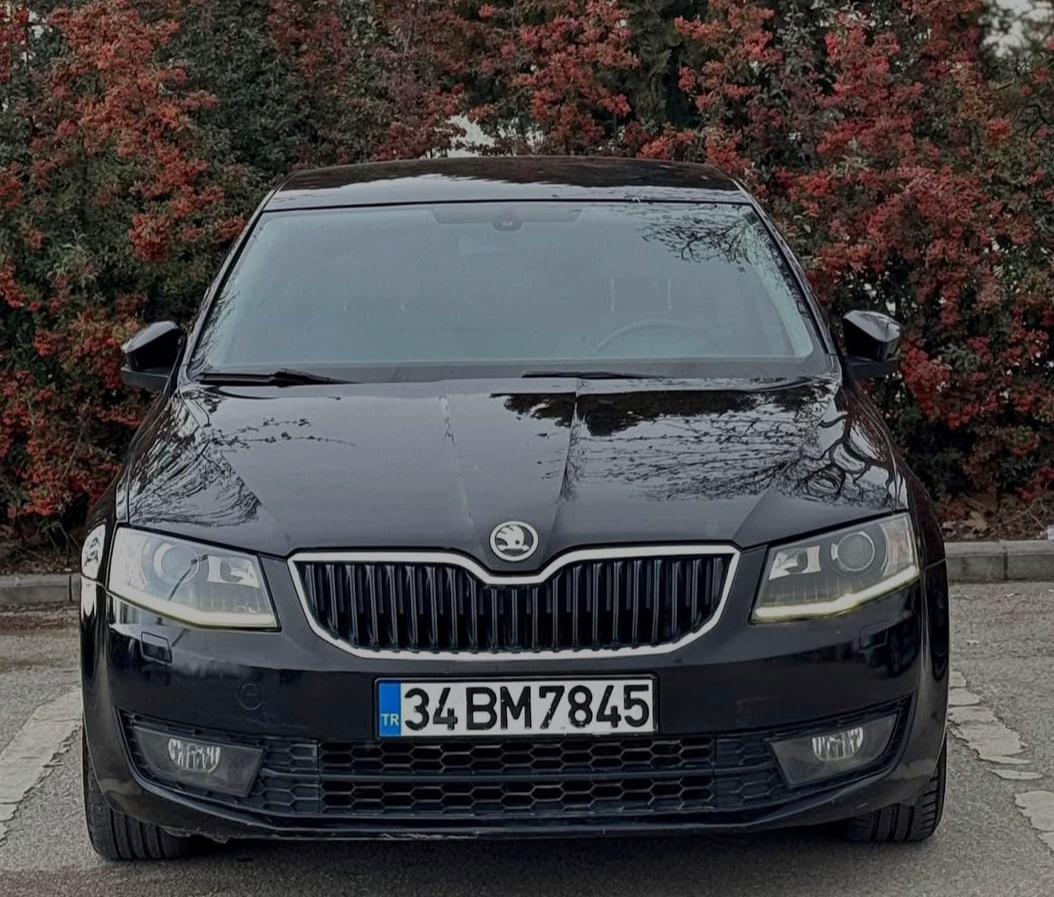plaka: (402, 668, 661, 748)
